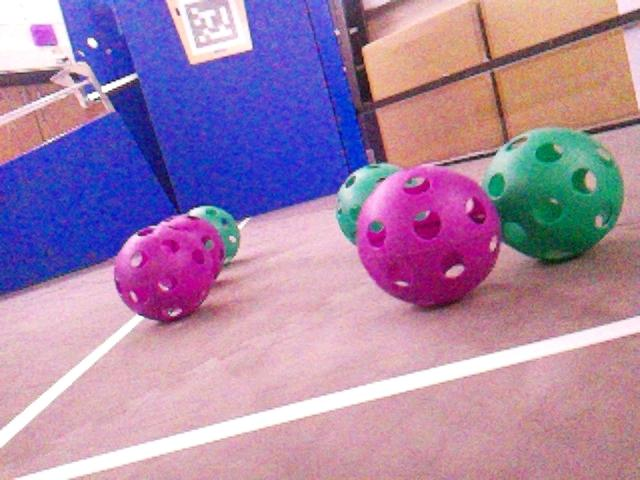Green: (482, 126, 623, 261), (338, 163, 402, 246), (188, 206, 240, 266)
Purple: (356, 166, 502, 304), (112, 227, 209, 321), (158, 213, 225, 283)
